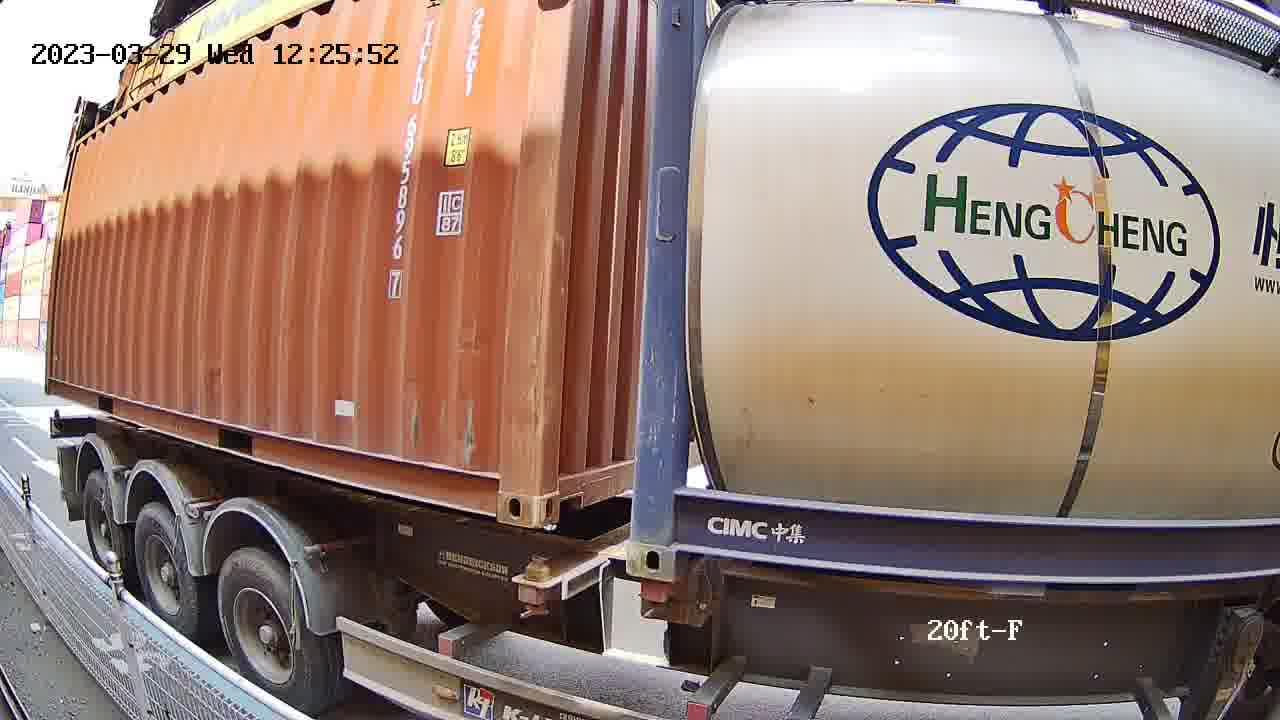Cone: (515, 554, 560, 615), (634, 578, 673, 616)
Hole_L: (630, 503, 709, 580), (536, 450, 585, 526)
Hole_R: (465, 449, 538, 529)
Tire: (216, 552, 316, 713), (136, 507, 197, 636), (84, 472, 123, 576)
